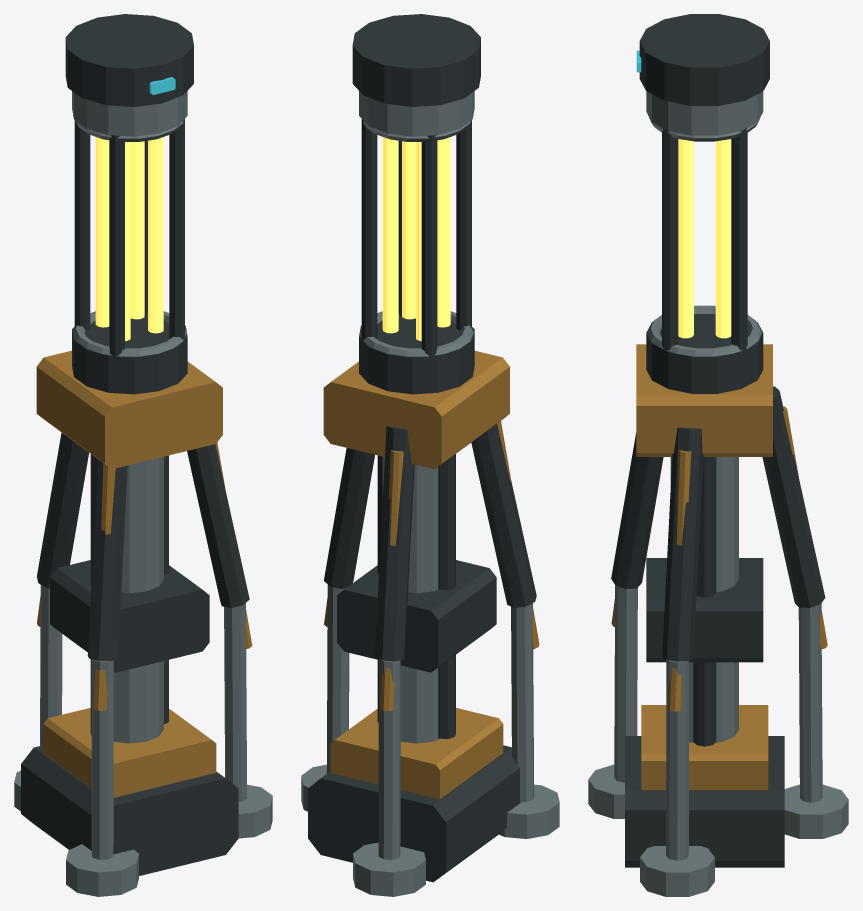
The model's file is resonance_tower_folded.glb.
3 views of the same model, side by side, from view 1: azimuth 30°, elevation 25°; view 2: azimuth 150°, elevation 25°; view 3: azimuth 270°, elevation 25° (orthographic).
Parts seen in each view (by area): view 1: resonance_tower_folded; view 2: resonance_tower_folded; view 3: resonance_tower_folded.
Part boxes in pixels (x1,y1,x2,y2): resonance_tower_folded: (14, 14, 272, 896); resonance_tower_folded: (301, 14, 559, 896); resonance_tower_folded: (588, 14, 848, 896).
Size of the model in its own units: 0.7857 by 2.71 by 0.8006.
